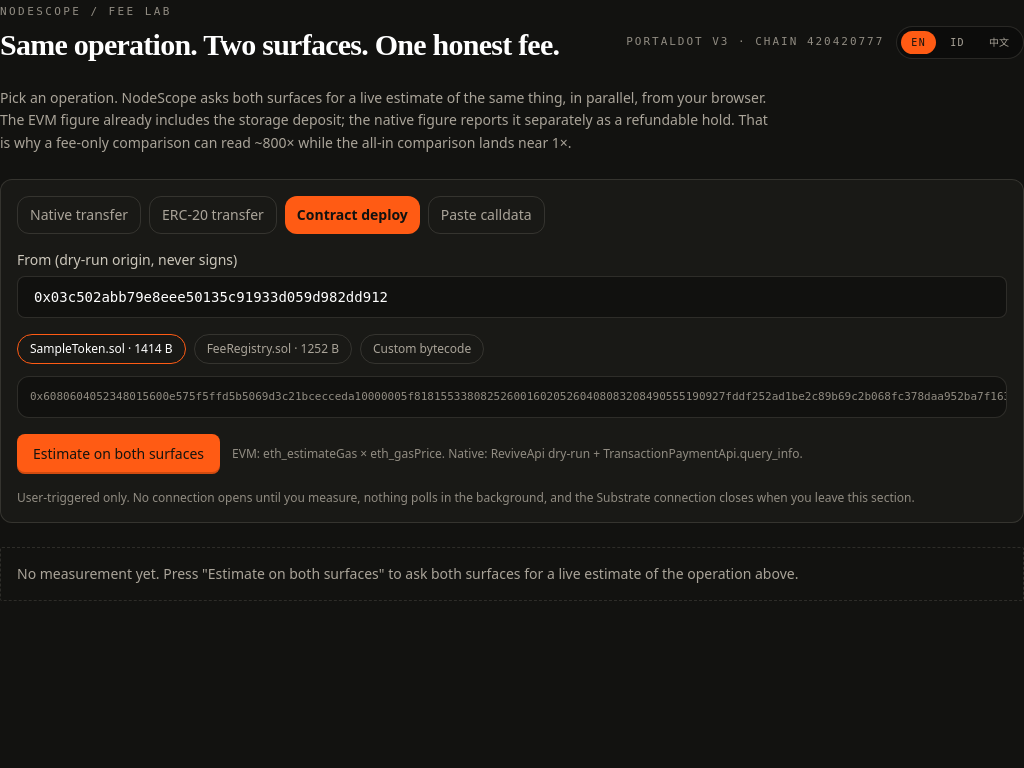
FeeLabPanel › copies a share link carrying the custom code and args
This screenshot has width=1024, height=768.
Step 1. Click the button "Custom bytecode" → (422, 349), box [360,334,484,364]
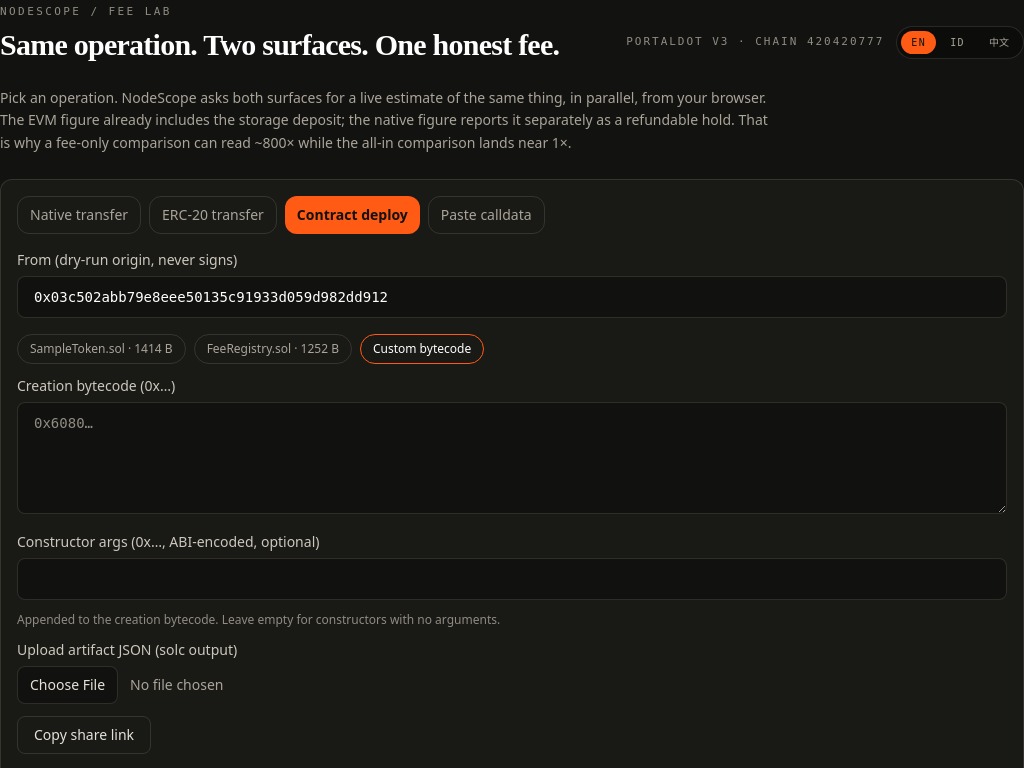
Step 2. Type "0x608060" into the text box with placeholder "0x6080…" → (512, 458), box [17,402,1007,514]
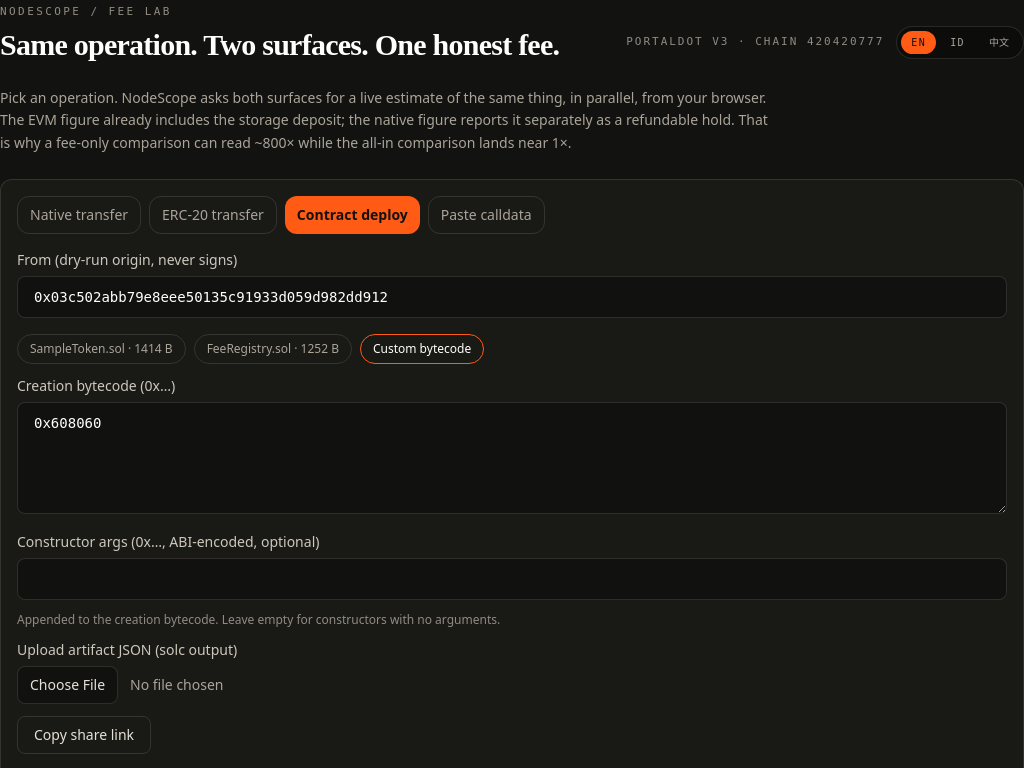
Step 3. Type "0x0001" into the field below "Creation bytecode (0x…)" → (512, 579), box [17,558,1007,600]
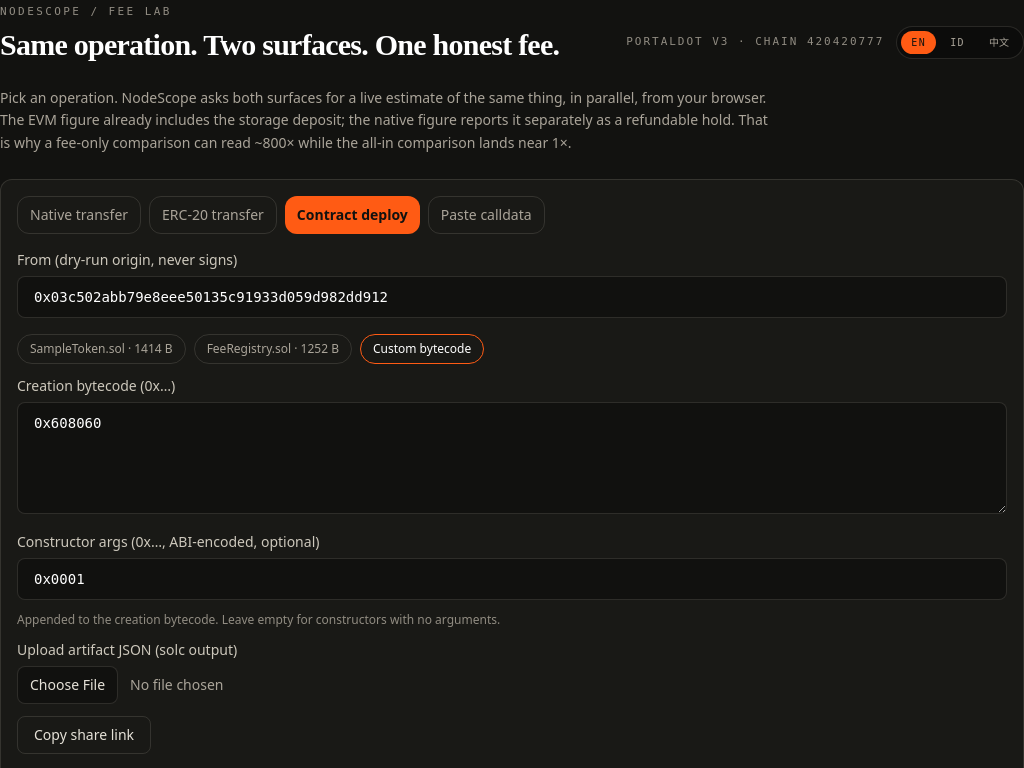
Step 4. Click the button "Copy share link" → (84, 735), box [17,716,151,754]
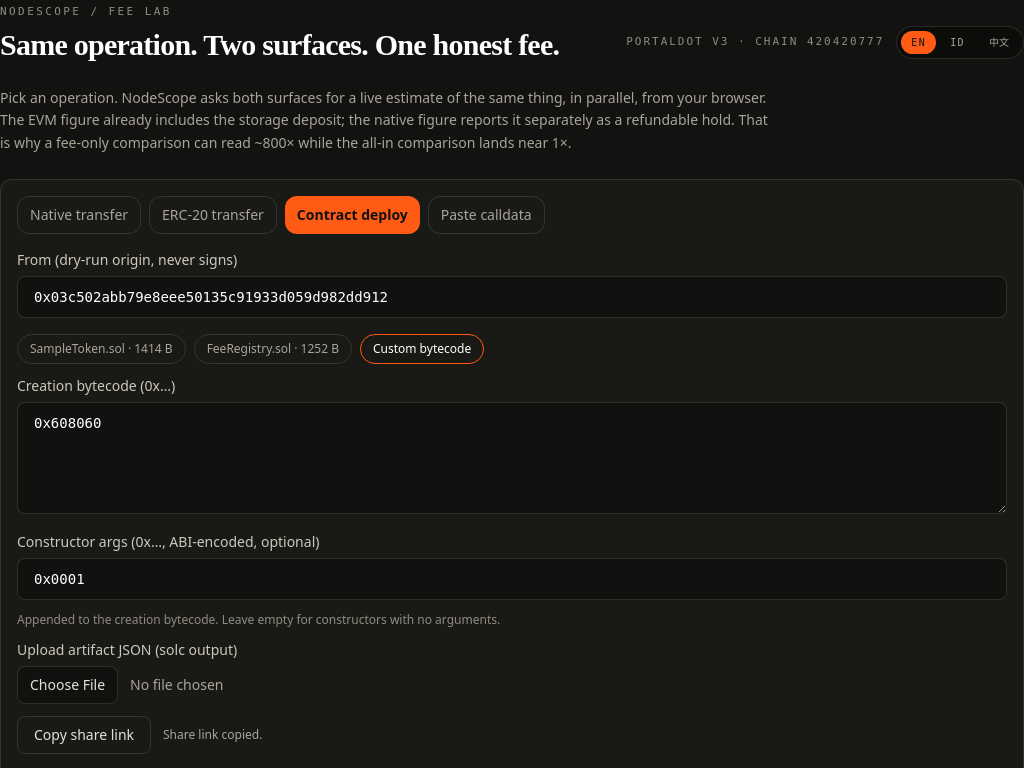
Check: the text "Share link copied." is shown, box [163,727,262,743]
